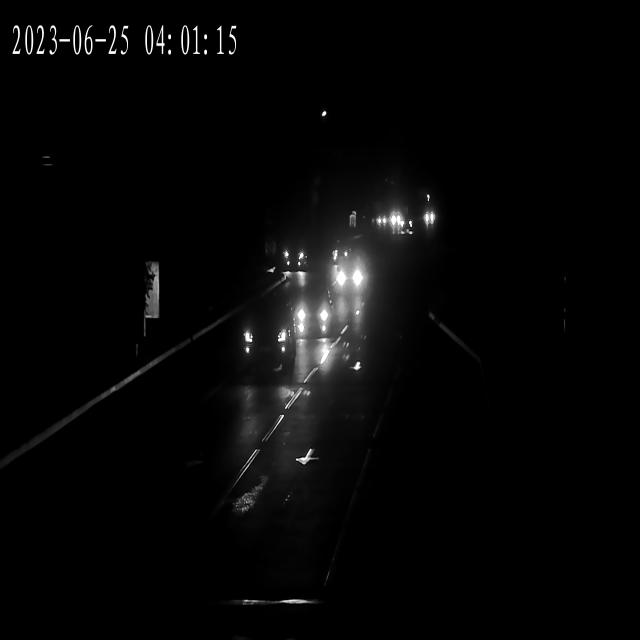Car: (240, 312, 298, 380), (236, 314, 295, 360), (287, 295, 336, 341), (331, 260, 368, 294), (282, 241, 308, 268), (283, 246, 308, 272), (419, 210, 436, 228), (385, 214, 404, 228), (373, 214, 390, 228)
